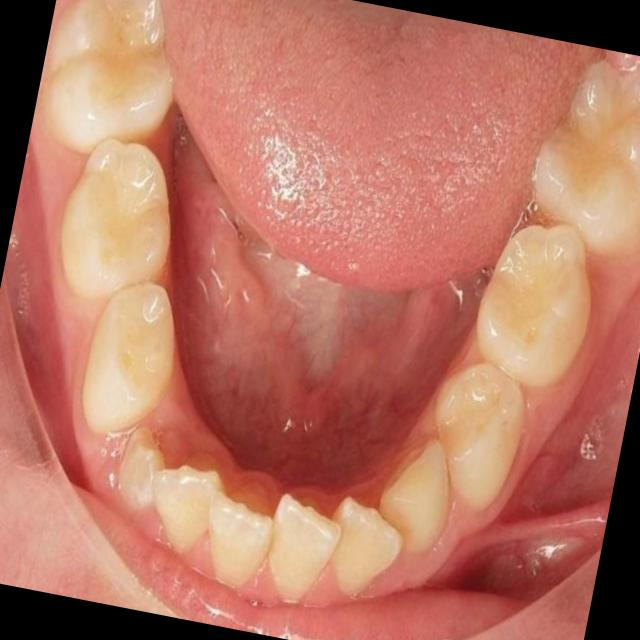Tooth: (537, 59, 640, 256), (43, 0, 174, 152), (479, 226, 596, 389), (60, 139, 171, 296), (83, 282, 175, 431), (435, 363, 526, 511), (380, 439, 452, 554), (270, 493, 340, 602), (331, 497, 401, 596), (151, 463, 224, 551), (207, 490, 272, 588), (119, 426, 167, 510)
